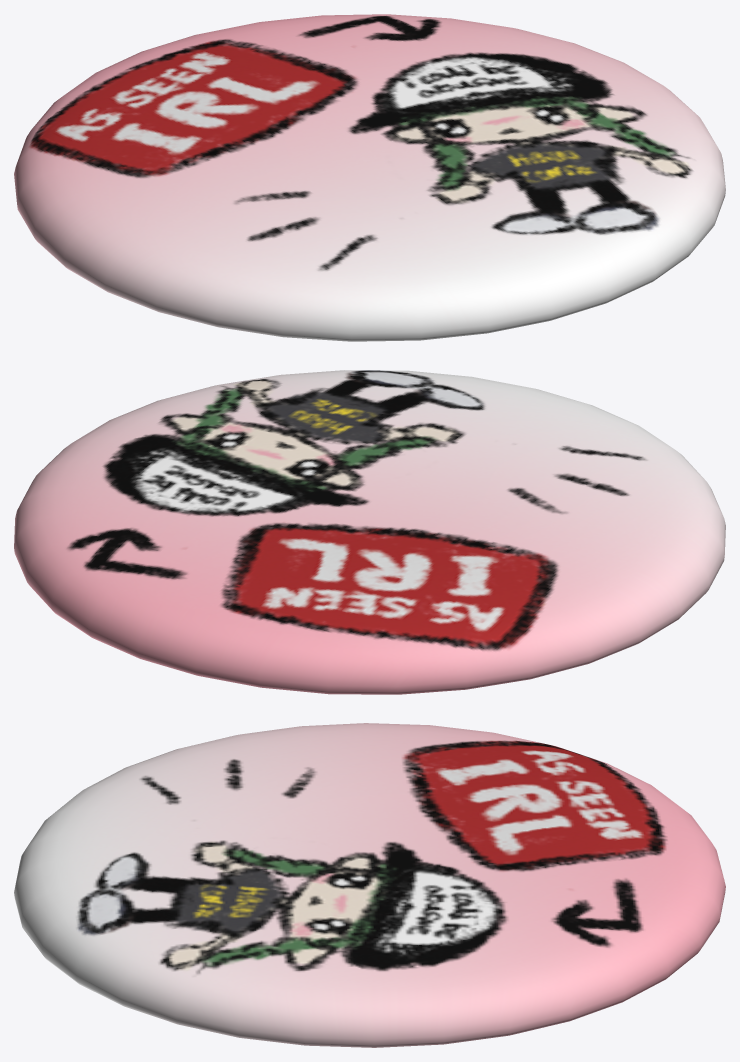
The picture shows the model from 3 angles, top to bottom: view 1: azimuth 30°, elevation 25°; view 2: azimuth 150°, elevation 25°; view 3: azimuth 270°, elevation 25°; orthographic projection.
Visible parts, largest first — view 1: Button_Pin; view 2: Button_Pin; view 3: Button_Pin.
Boxes of the visible parts, left/top/right/bottom form: Button_Pin: left=14, top=14, right=725, bottom=341; Button_Pin: left=14, top=370, right=725, bottom=694; Button_Pin: left=14, top=723, right=725, bottom=1047.
Size of the model in its own units: 0.0629 by 0.00761 by 0.0629.
Materials: 3 (2 with a texture image).
